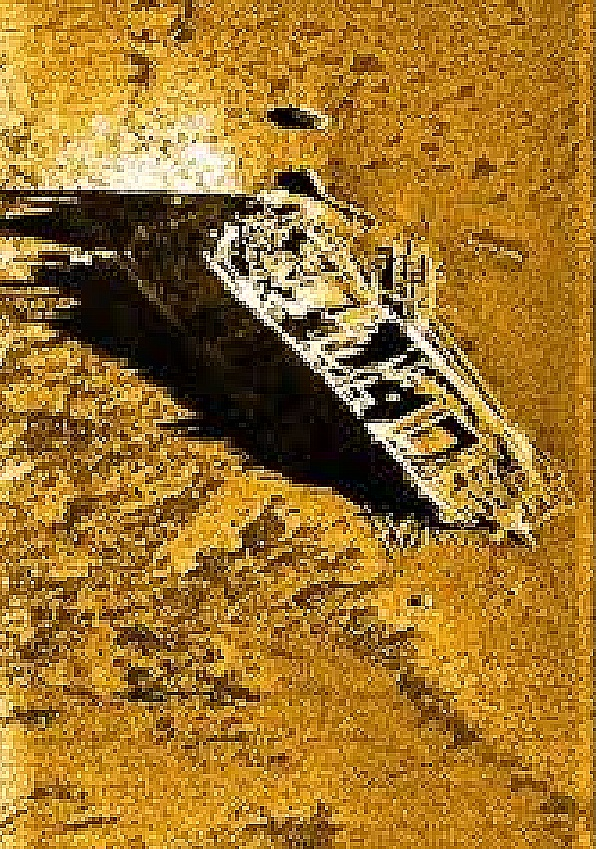ship: (115, 163, 541, 542)
